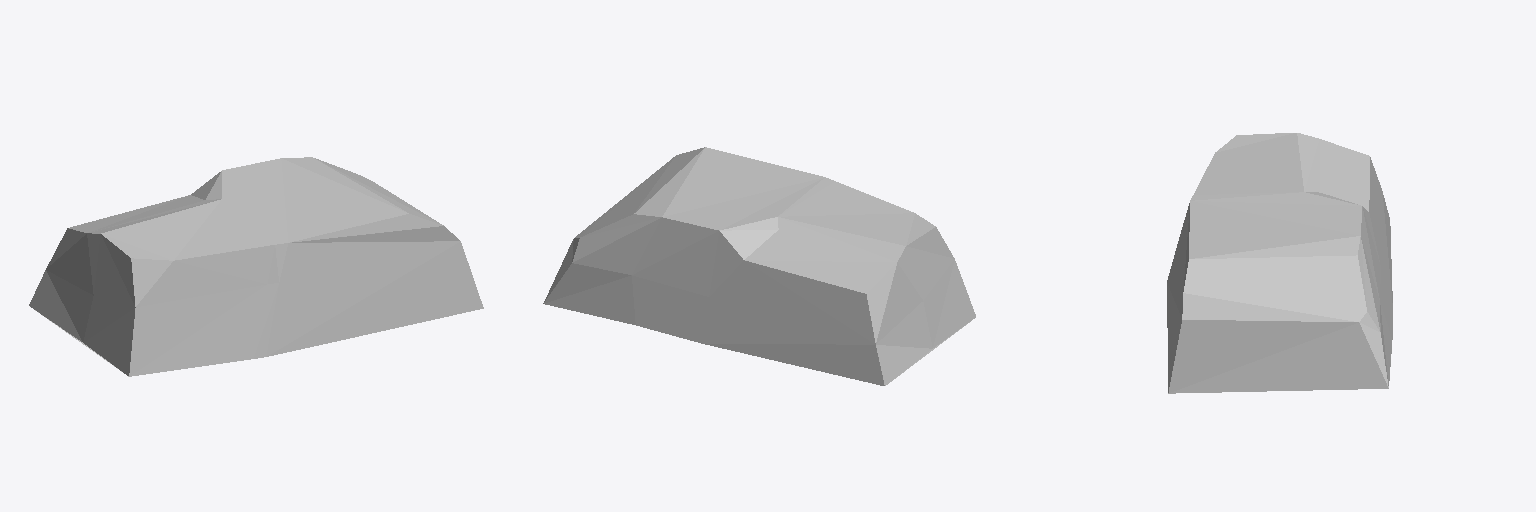
The model's file is Pebble_Square_6.obj.
3 renders of one model, left to right at view 1: azimuth 30°, elevation 25°; view 2: azimuth 150°, elevation 25°; view 3: azimuth 270°, elevation 25°, orthographic.
Visible parts, largest first — view 1: Pebble_Square_6; view 2: Pebble_Square_6; view 3: Pebble_Square_6.
Part boxes in pixels (x1,y1,x2,y2): Pebble_Square_6: (29,157,483,376); Pebble_Square_6: (543,147,975,385); Pebble_Square_6: (1167,133,1392,393).
Size of the model in its own units: 0.462 by 0.1378 by 0.2629.